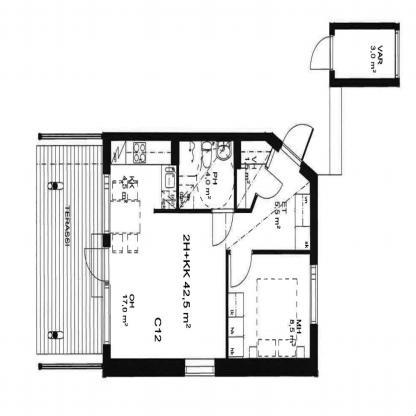door: (280, 119, 315, 163), (81, 244, 113, 288), (225, 245, 253, 292), (209, 205, 236, 249), (256, 165, 286, 201), (307, 33, 332, 74)
window: (97, 279, 114, 349), (97, 167, 113, 237), (181, 352, 218, 380), (305, 262, 321, 325)
